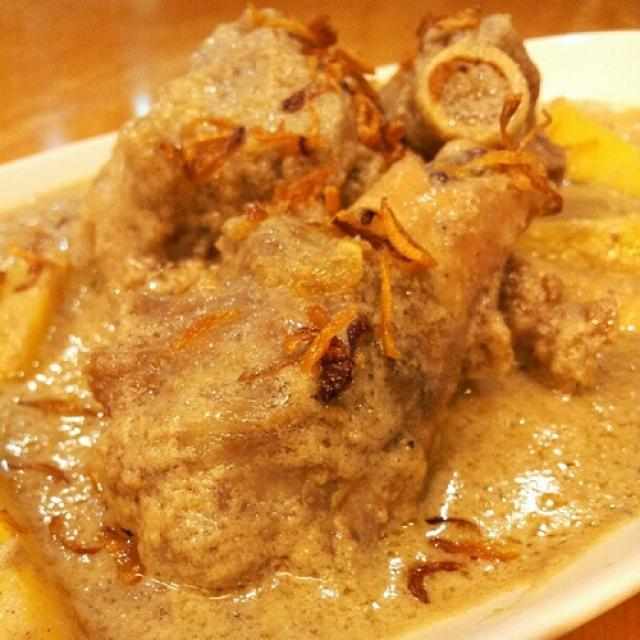熟制海鲜: (26, 23, 627, 608)
